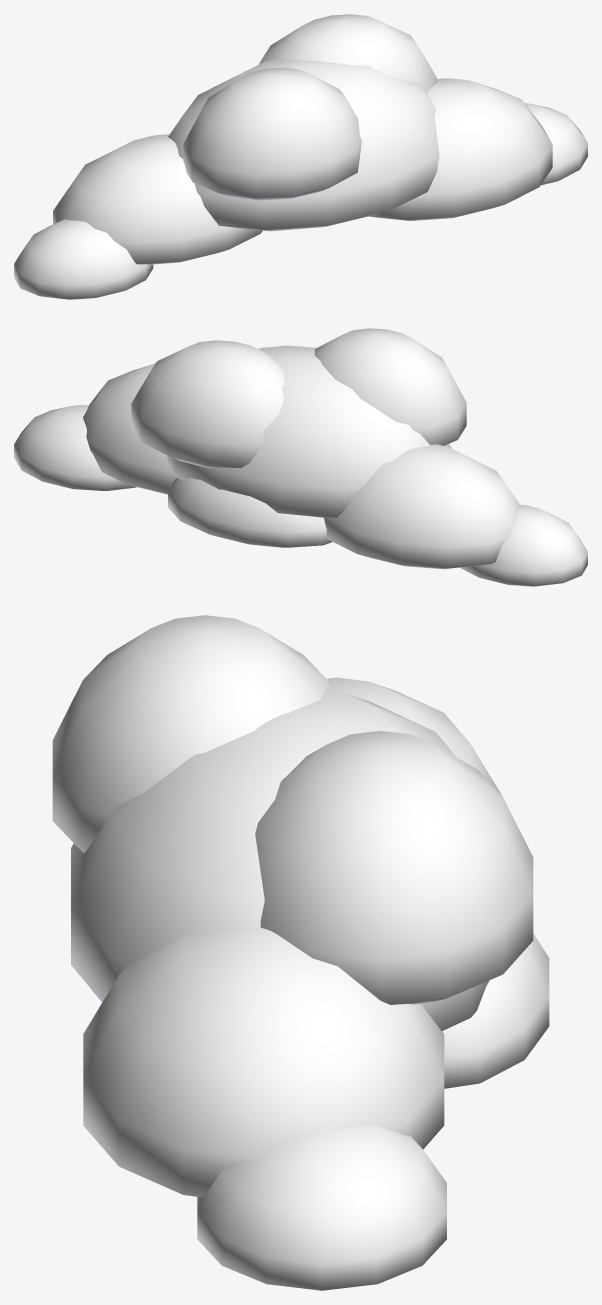
The model's file is Kit_Cloud.obj.
The picture shows the model from 3 angles, top to bottom: view 1: azimuth 30°, elevation 25°; view 2: azimuth 150°, elevation 25°; view 3: azimuth 270°, elevation 25°; orthographic projection. The views are drawn at different scales.
Visible parts, largest first — view 1: Kit_Cloud; view 2: Kit_Cloud; view 3: Kit_Cloud.
Part boxes in pixels (<box>): Kit_Cloud: <box>14,14,587,299</box>; Kit_Cloud: <box>14,328,587,586</box>; Kit_Cloud: <box>52,615,549,1290</box>.
Size of the model in its own units: 87.47 by 27.1 by 34.01.
Materials: 1 (1 with a texture image).
